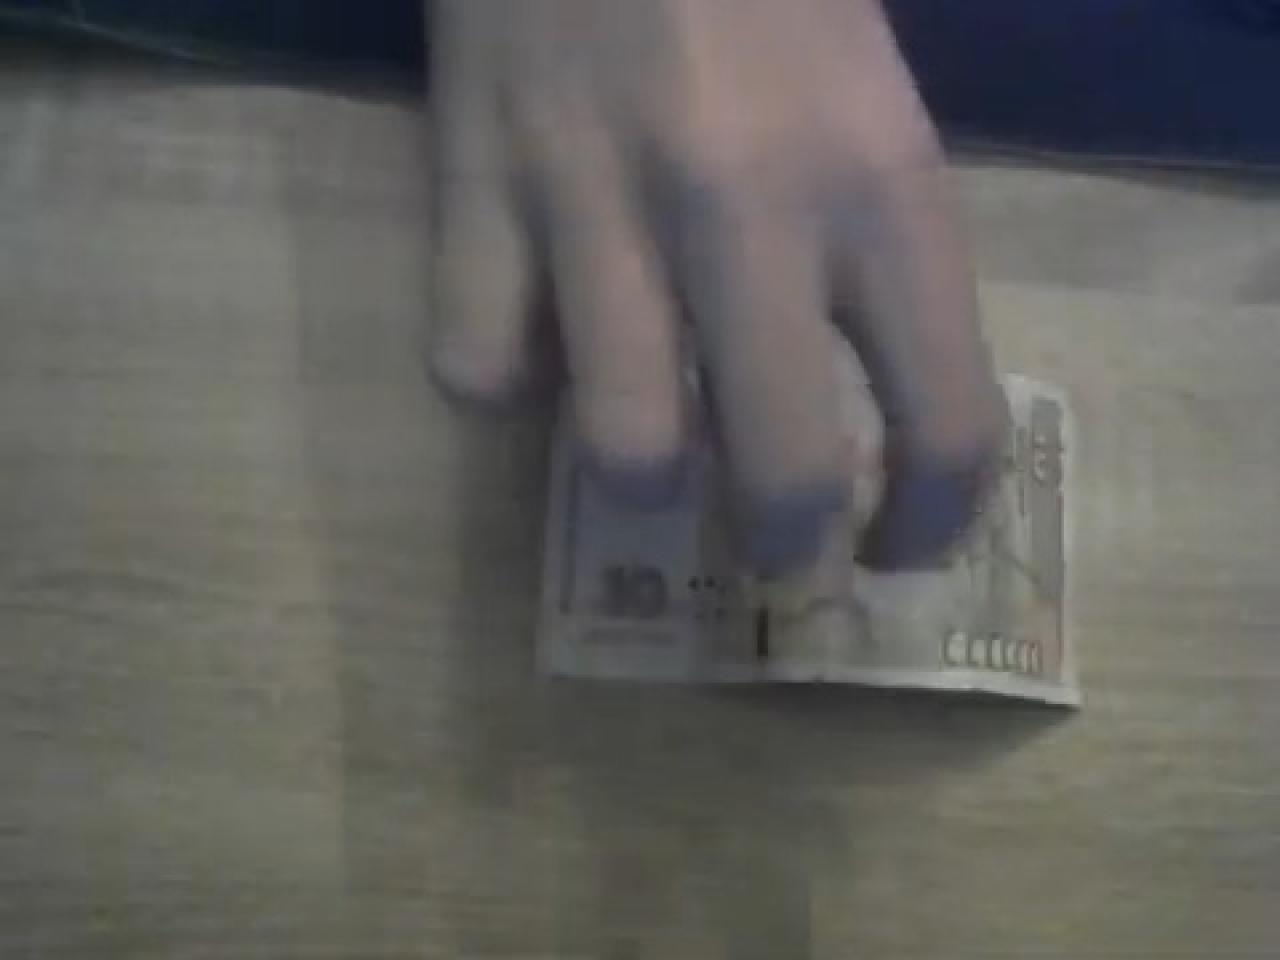10leva: (424, 0, 1080, 715)
